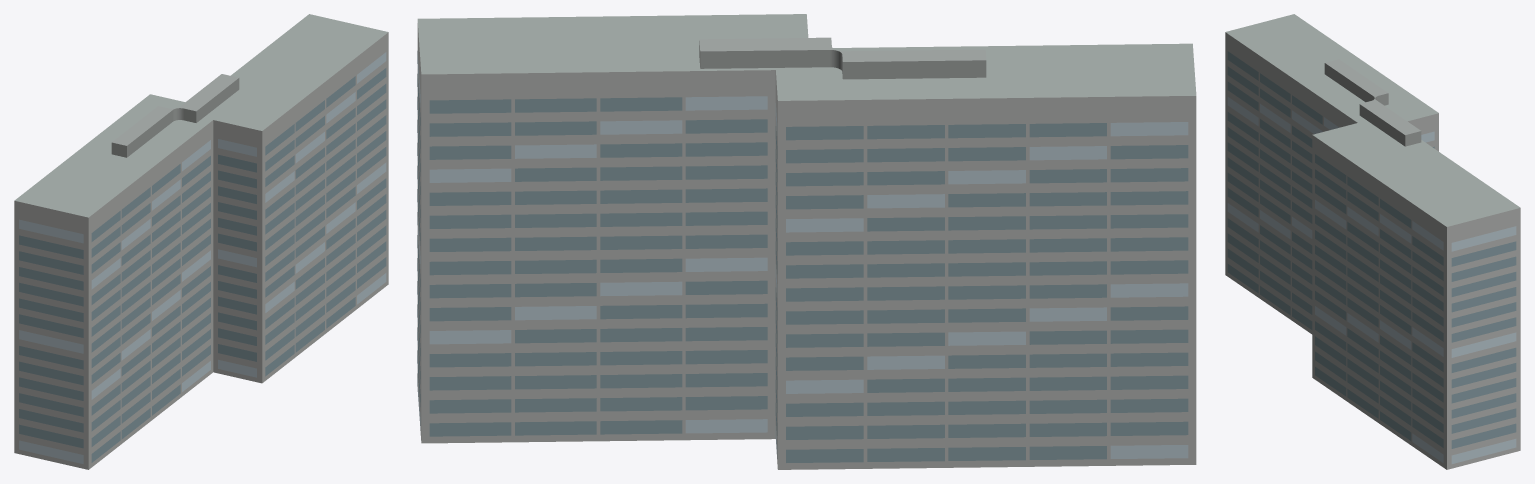
The model's file is apt-a10024823.glb.
The picture shows the model from 3 angles, left to right: view 1: azimuth 30°, elevation 25°; view 2: azimuth 150°, elevation 25°; view 3: azimuth 270°, elevation 25°; orthographic projection. The views are drawn at different scales.
Parts seen in each view (by area): view 1: apt-a10024823; view 2: apt-a10024823; view 3: apt-a10024823.
Boxes of the visible parts, box(x1,y1,x2,y2) form: apt-a10024823: box(14, 14, 388, 469); apt-a10024823: box(417, 14, 1196, 469); apt-a10024823: box(1225, 14, 1520, 469).
Size of the model in its own units: 77.23 by 43 by 45.27.
